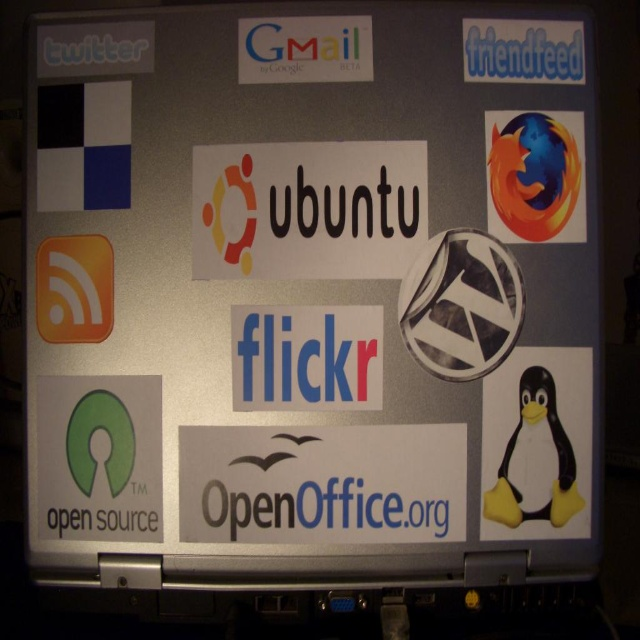Penguin: (495, 362, 572, 551)
